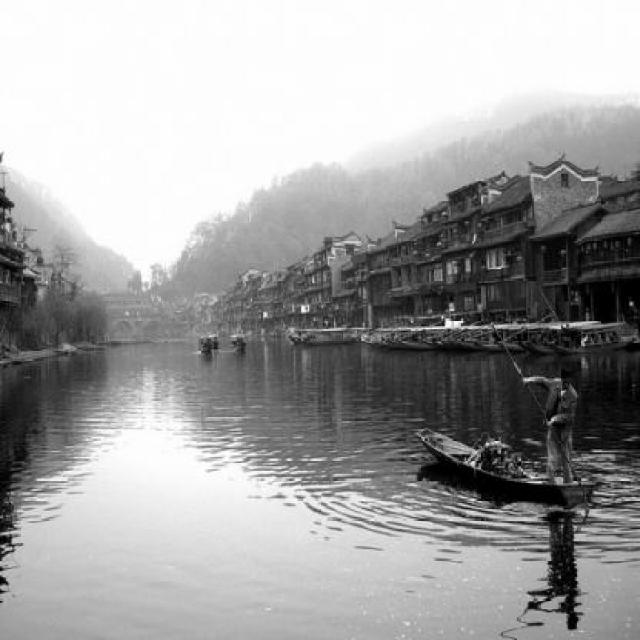ship: (416, 426, 596, 503), (520, 318, 594, 358), (552, 320, 636, 354), (548, 320, 635, 351), (471, 320, 532, 354), (288, 320, 355, 348), (390, 322, 444, 351)
